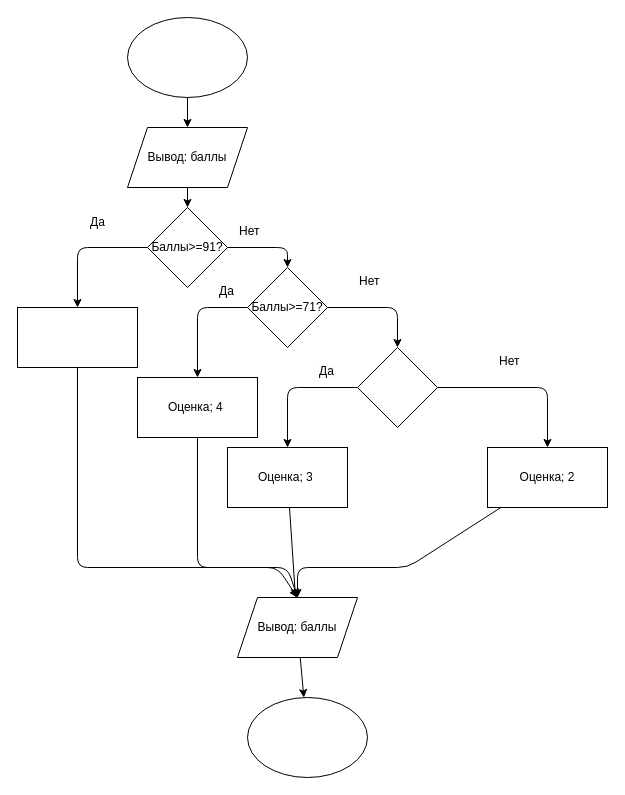
Image size: 625x795. Some labels were removed from this diagram. Each missing label, with the box of its shape:
Баллы>=51?: (356, 346, 438, 428)
Конец: (246, 696, 368, 778)
начало: (126, 16, 248, 98)
Оценка; 5: (16, 306, 138, 368)
